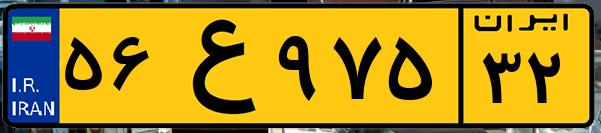2: (525, 38, 570, 115)
3: (475, 38, 525, 113)
5: (385, 28, 445, 110), (57, 26, 110, 100)
6: (110, 28, 158, 98)
7: (330, 28, 385, 110)
9: (270, 28, 330, 110)
ع: (158, 12, 270, 120)
